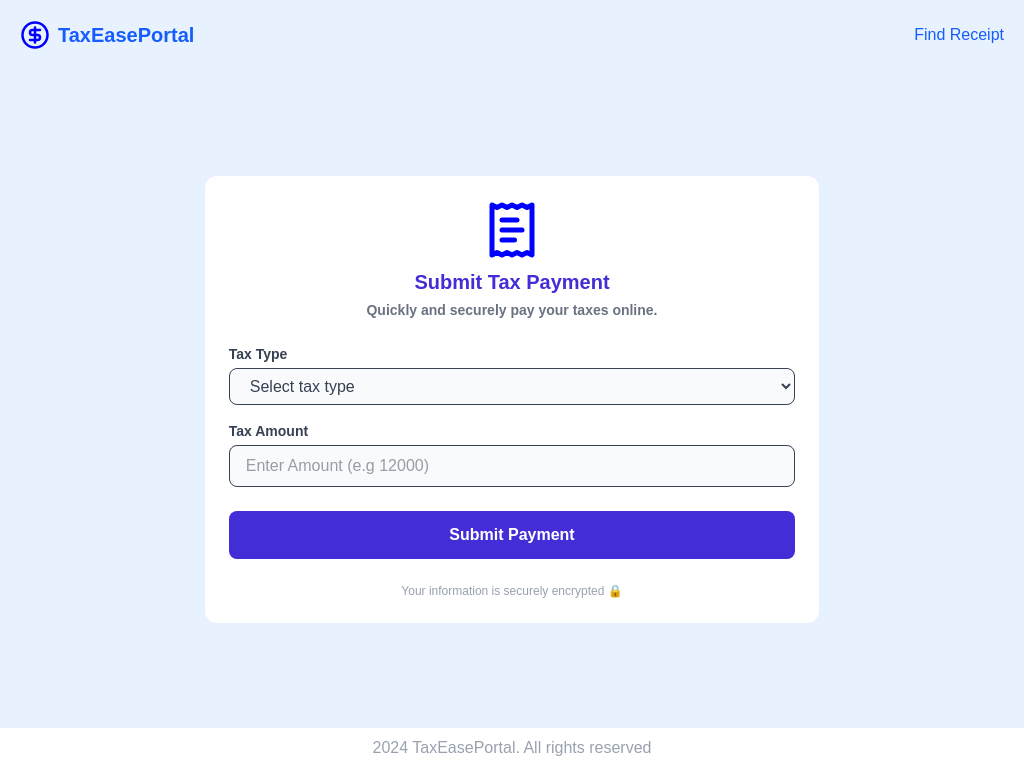
Test: Submission Page › shows error when tax amount is negative
Type "-500" into the number field with placeholder "Enter Amount (e.g 12000)". click: (512, 466)
box: [229,444,795,486]
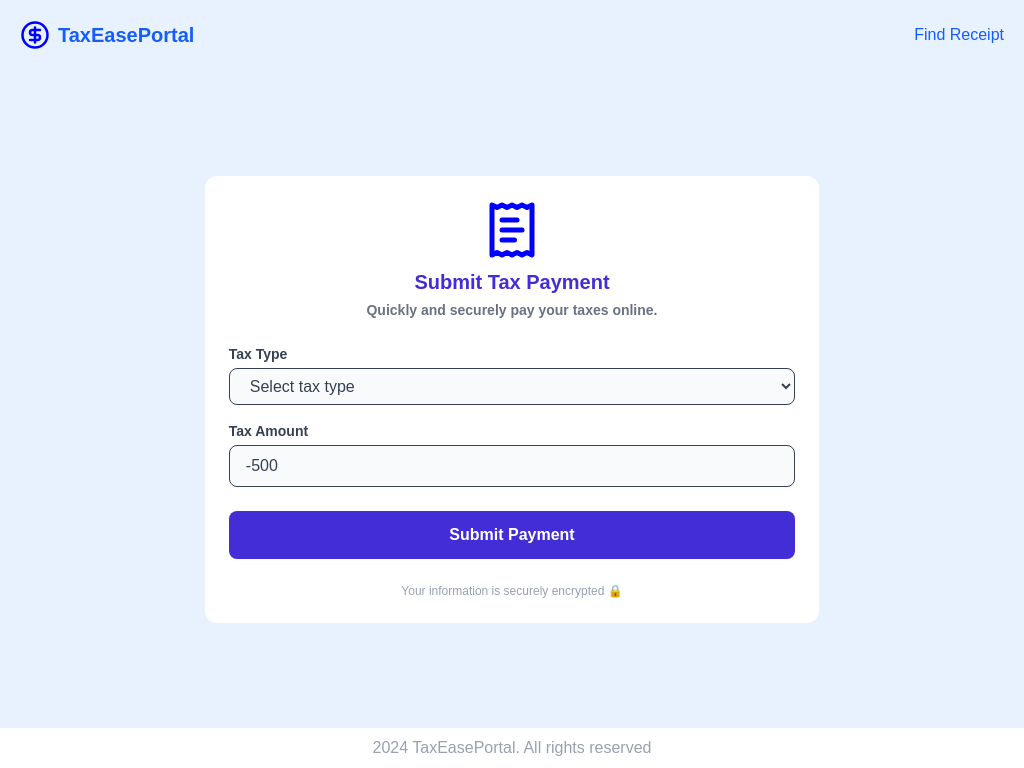
Click the button "Submit Payment". click: click(512, 534)
box: [229,510,795,558]
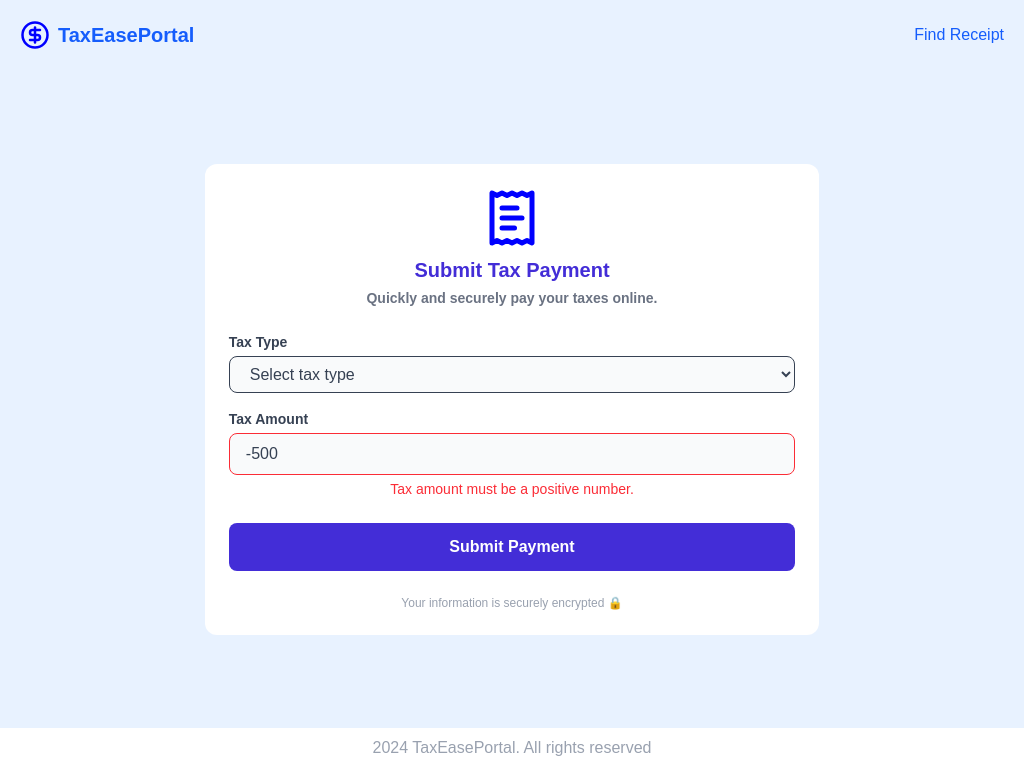
expect the text "Tax amount must be a positive number." is shown: met, box [390,480,634,496]
